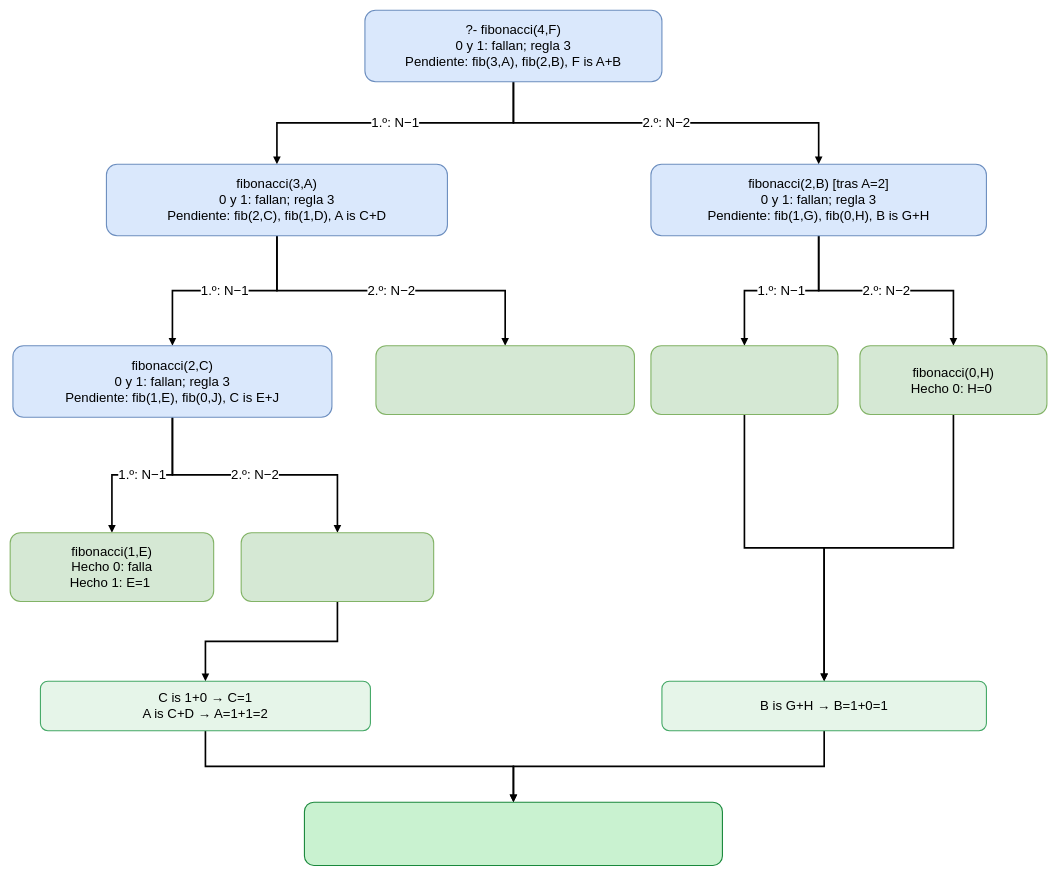
The diagram is 1057 pixels wide and 875 high, and some of its shapes have lost their labels. Here are the shapes that lost their labels. From the top down, the centre of each, then its label:
At point 505,380: "fibonacci(1,D) Hecho 0: falla Hecho 1: D=1".
At point 744,380: "fibonacci(1,G) Hecho 0: falla Hecho 1: G=1".
At point 337,567: "fibonacci(0,J) Hecho 0: J=0".
At point 513,833: "F is A+B → F is 2+1 ÉXITO: F=3".
